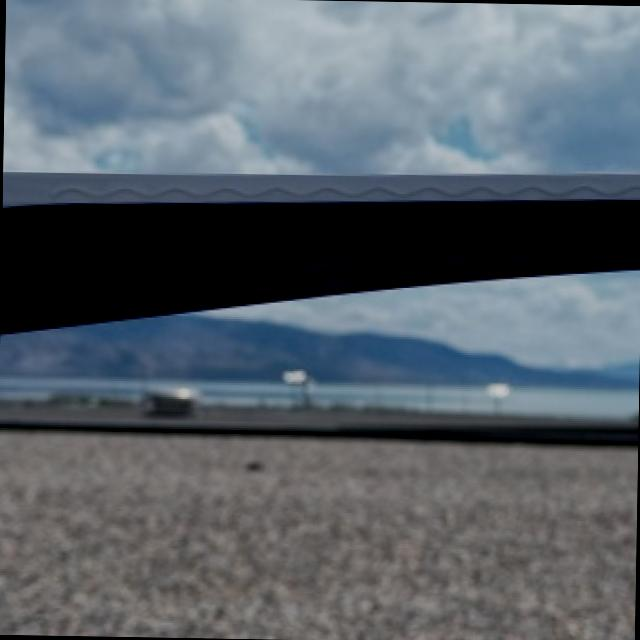healthy: (0, 430, 638, 640), (0, 387, 639, 441)
